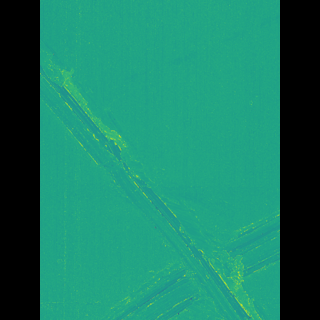Loch: (68, 33, 242, 320), (114, 207, 250, 320)
